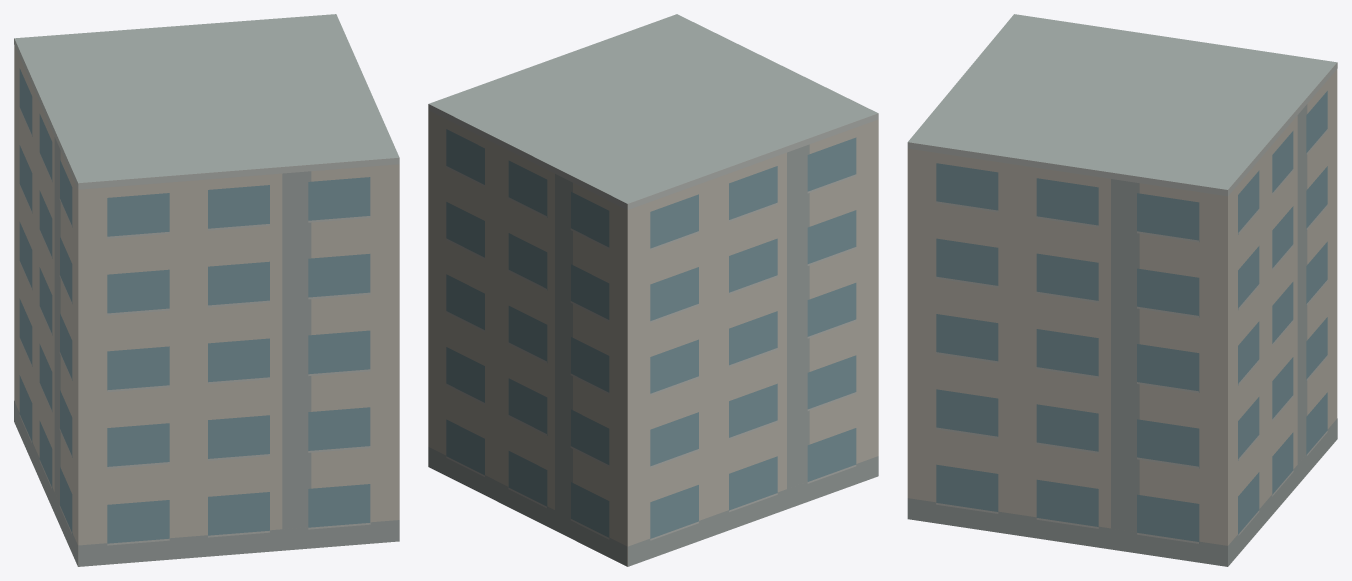
File: survey-upis-32994970.glb
3 renders of one model, left to right at view 1: azimuth 30°, elevation 25°; view 2: azimuth 150°, elevation 25°; view 3: azimuth 270°, elevation 25°, orthographic. The views are drawn at different scales.
Parts seen in each view (by area): view 1: survey-upis-32994970.tmp; view 2: survey-upis-32994970.tmp; view 3: survey-upis-32994970.tmp.
Boxes of the visible parts, box(x1,y1,x2,y2) form: survey-upis-32994970.tmp: box(14, 14, 399, 566); survey-upis-32994970.tmp: box(428, 14, 878, 566); survey-upis-32994970.tmp: box(907, 14, 1337, 566).
Bounding box in the file's own units: 14.38 × 14.35 × 14.84.
